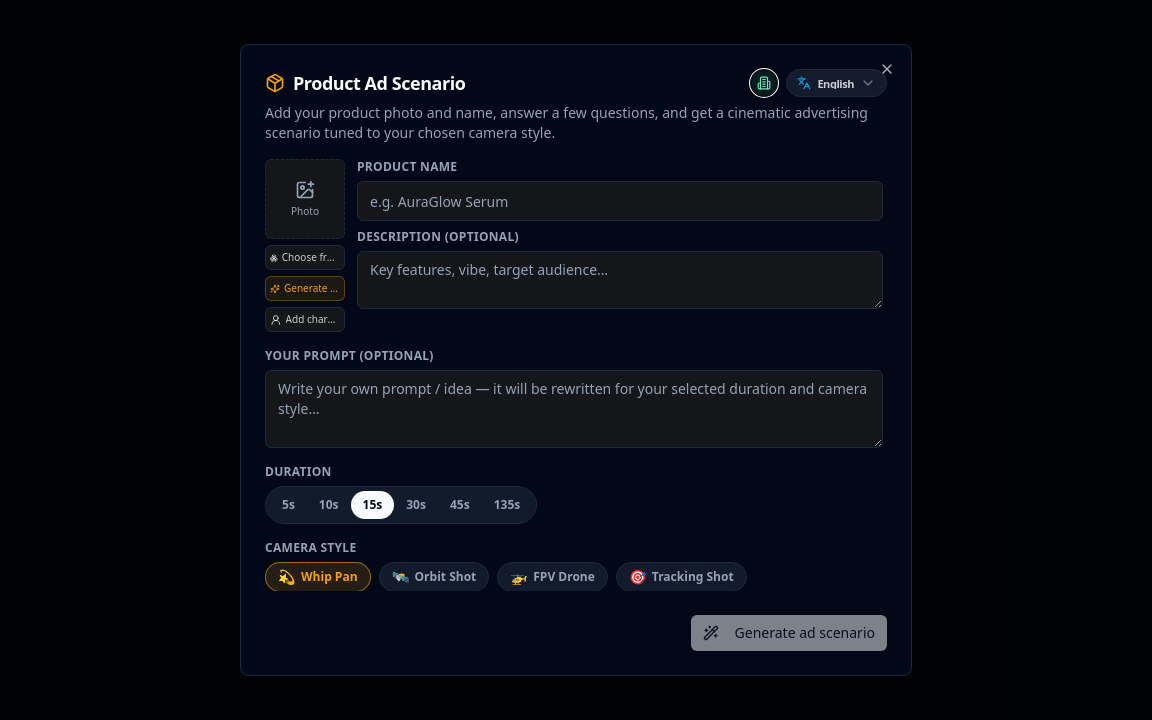
Test: ProductAdDialog accessibility › gives the icon-only company-logo removal control an accessible name
Click the button named "About your business" at (764, 83), box left=750, top=69, right=778, bottom=97
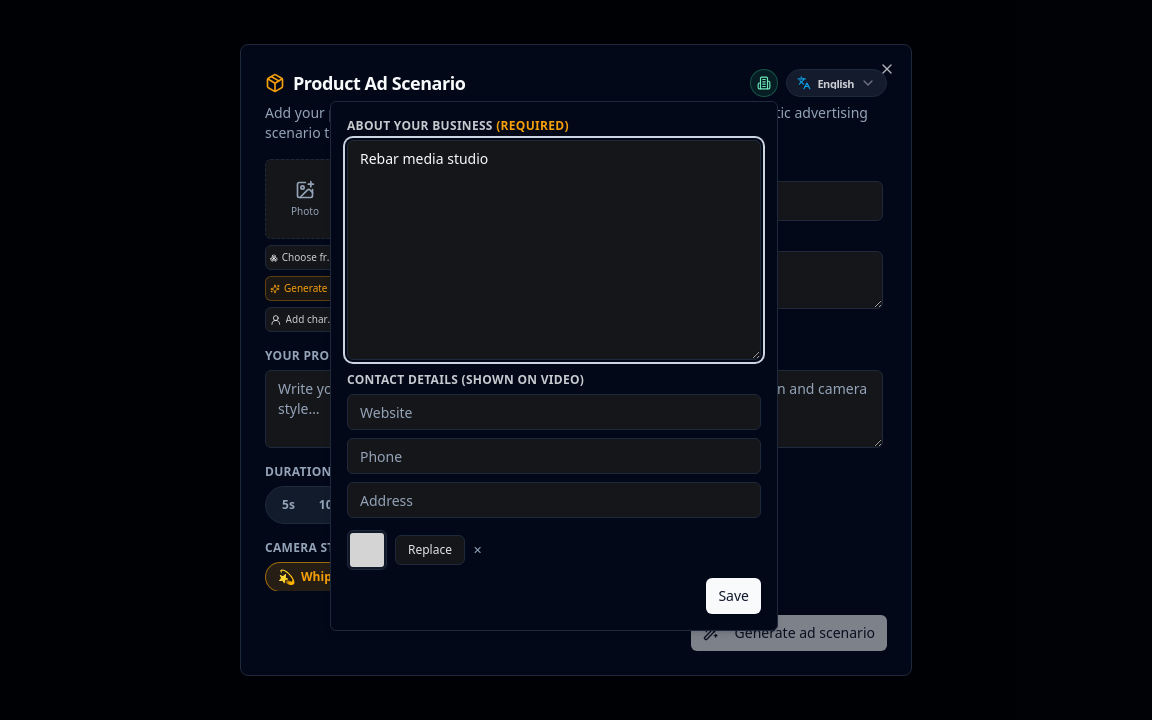
Result: the button named "Remove company logo" is shown at left=473, top=542, right=482, bottom=558
